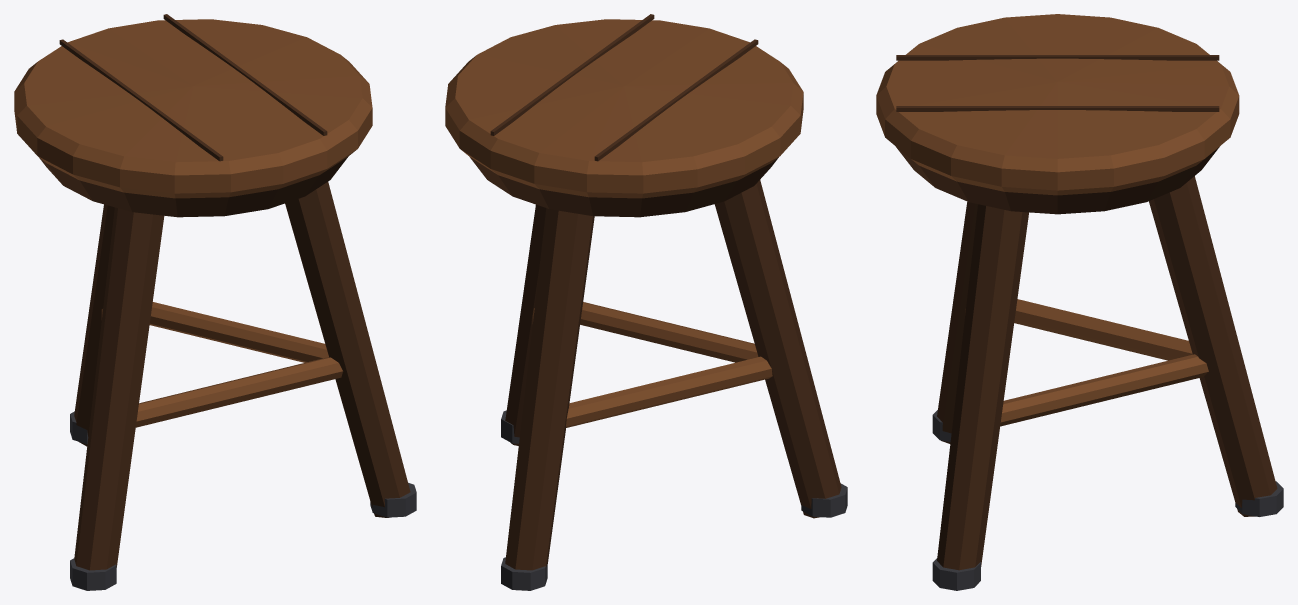
The model's file is stool.obj.
3 renders of one model, left to right at view 1: azimuth 30°, elevation 25°; view 2: azimuth 150°, elevation 25°; view 3: azimuth 270°, elevation 25°, orthographic.
Visible parts, largest first — view 1: lathe, lathe.004, lathe.006, lathe.001, lathe.009, lathe.010, lathe.002, box, box.001, lathe.005, lathe.007; view 2: lathe, lathe.002, lathe.004, lathe.001, lathe.008, lathe.009, lathe.006, box, box.001, lathe.003, lathe.005; view 3: lathe, lathe.006, lathe.002, lathe.001, lathe.010, lathe.008, lathe.004, box.001, box, lathe.007, lathe.003.
Part boxes in pixels (x1,y1,x2,y2): lathe: (14,19,372,198); lathe.004: (74,207,164,570); lathe.006: (285,182,410,517); lathe.001: (39,156,348,217); lathe.009: (135,357,342,427); lathe.010: (149,302,328,362); lathe.002: (74,204,114,446); box: (59,39,223,161); box.001: (163,14,327,135); lathe.005: (70,558,116,590); lathe.007: (370,482,416,517); lathe: (445,19,803,198); lathe.002: (505,208,594,570); lathe.004: (714,180,841,518); lathe.001: (469,156,778,217); lathe.008: (566,356,772,427); lathe.009: (580,302,758,362); lathe.006: (505,204,546,445); box: (594,39,758,161); box.001: (490,14,654,135); lathe.003: (501,557,547,590); lathe.005: (801,483,847,517); lathe: (876,14,1239,195); lathe.006: (937,204,1028,583); lathe.002: (1149,176,1277,516); lathe.001: (896,146,1219,214); lathe.010: (1000,354,1208,426); lathe.008: (1014,299,1192,360); lathe.004: (937,201,977,443); box.001: (896,106,1219,111); box: (896,55,1219,60); lathe.007: (932,558,980,590); lathe.003: (1235,481,1283,516).
Size of the model in its own units: 0.3944 by 0.4708 by 0.404.
